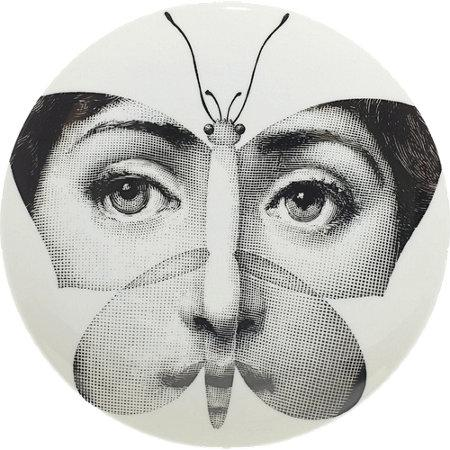person: (28, 92, 394, 418)
